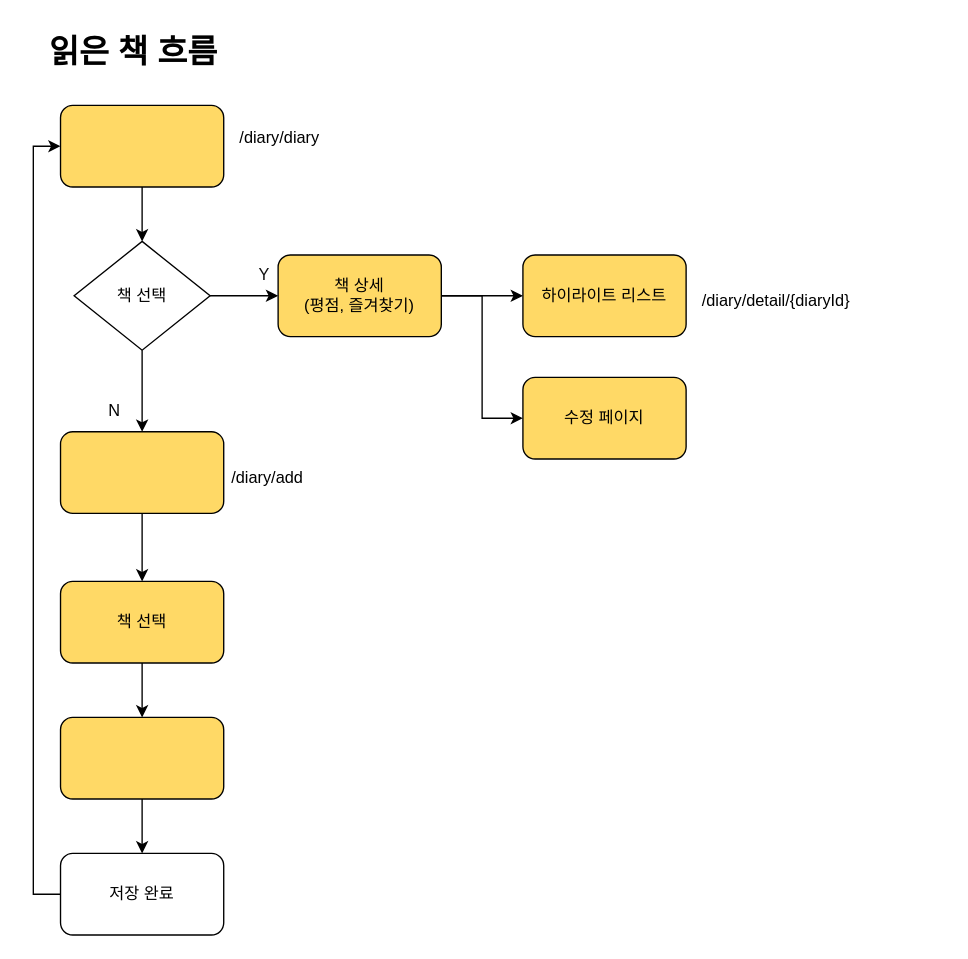
This 968x959 diagram has some shape labels left out. Here are the shapes that lost their labels. From the top down, the centre of each, then its label:
point (141, 145): 읽은 책 리스트
point (141, 471): 책 추가
point (141, 757): 독서 정보 입력
